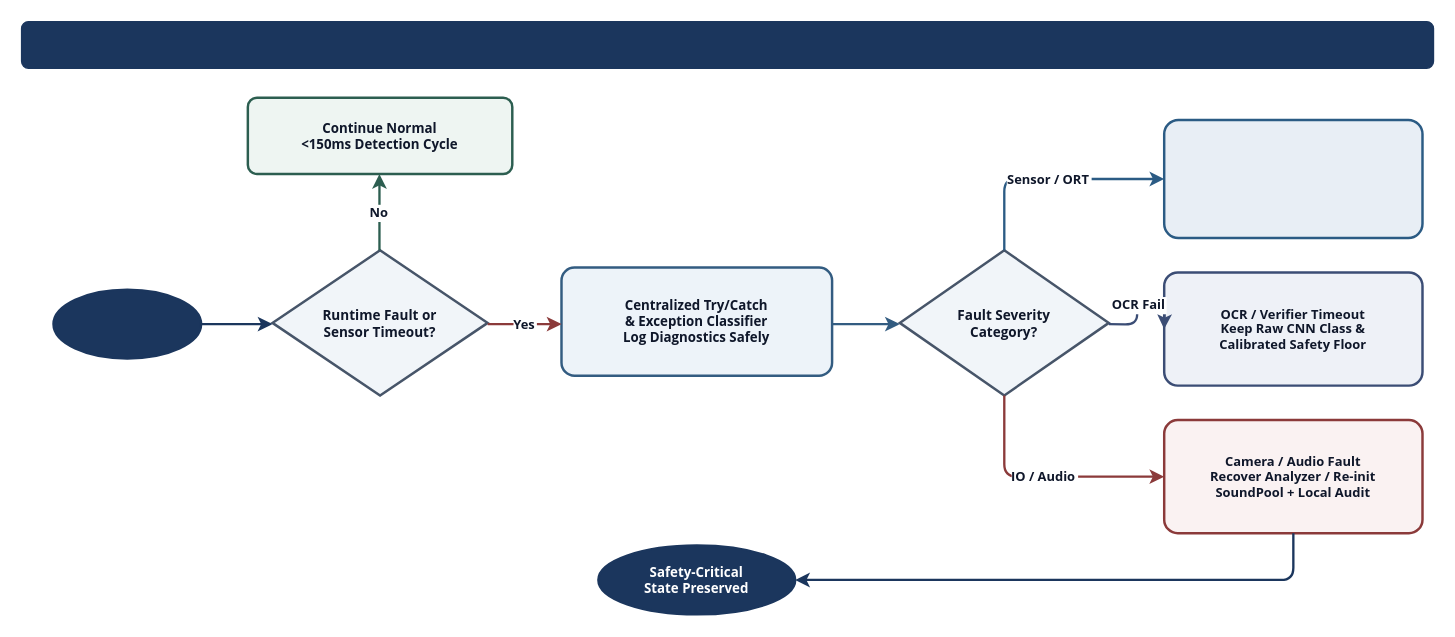
Image size: 1455x637. Some labels were removed from this diagram. The box of each missing label's shape, as (x1, y1, x2, y2) in pixels:
Global System Resilience & Graceful Fallback Flow: (20, 20, 1434, 68)
GPS / Provider Fallback Graceful Degrade: Last Cached Fix / CPU ORT: (1162, 118, 1423, 239)
Runtime Event (Camera / ORT): (52, 288, 202, 359)
